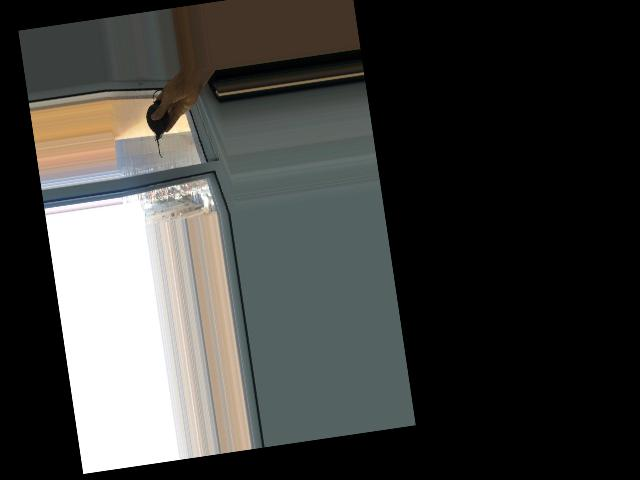beet: (142, 88, 181, 159)
